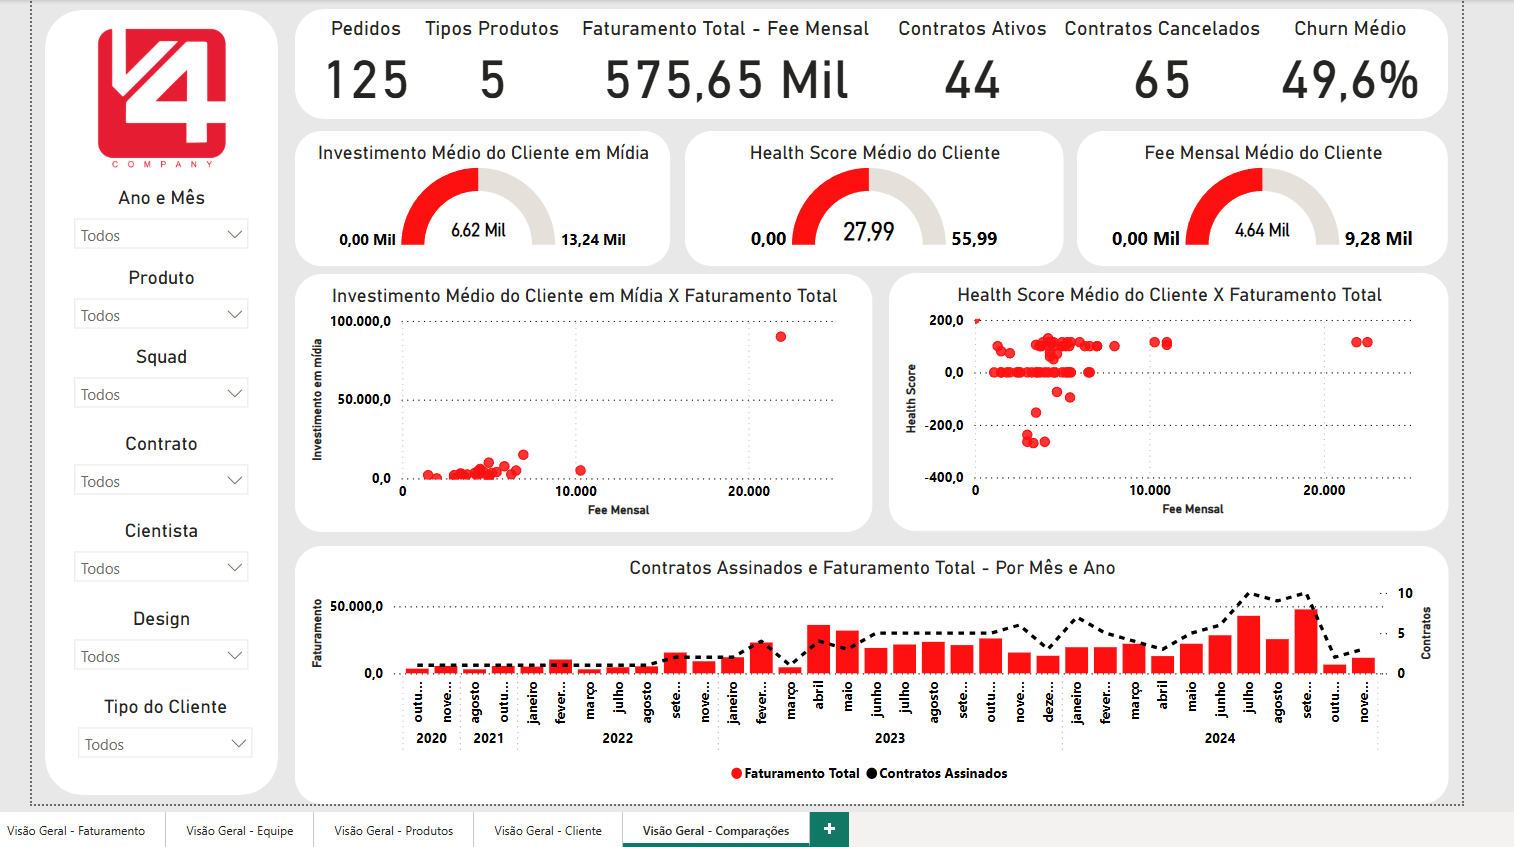

Layout of this report page (visuals, bound fields, positions):
{"tool":"powerbi","page":{"name":"Visão Geral - Comparações","canvas":[1280,720],"ordinal":4},"visuals":[{"type":"shape","box":[11.6,9,208.7,703],"z":0},{"type":"shape","box":[235.5,8.1,1032.5,98.5],"z":1000},{"type":"card","title":"Faturamento Total - Fee Mensal","fields":{"Values":["Sum(Sheet1.Fee Mensal)"]},"box":[474.6,14.3,292.8,85.1],"z":2000},{"type":"card","title":"Contratos Ativos","fields":{"Values":["CountNonNull(Sheet1.situacao)"]},"box":[767.5,14.3,149.6,85.1],"z":3000},{"type":"image","box":[36.7,14.3,159.4,146.9],"z":4000},{"type":"slicer","title":"Ano e Mês","fields":{"Values":["Sheet1.Data da Assinatura .Variation.Hierarquia de datas.Ano","Sheet1.Data da Assinatura .Variation.Hierarquia de datas.Mês"]},"box":[27.8,166.6,176.4,71.6],"z":5000},{"type":"slicer","title":"Squad","fields":{"Values":["Sheet1.Squad"]},"box":[27.8,309,176.4,77.9],"z":6000},{"type":"slicer","title":"Produto","fields":{"Values":["Sheet1.Produto"]},"box":[27.8,238.2,176.4,70.7],"z":7000},{"type":"scatterChart","title":"Investimento Médio do Cliente em Mídia X Faturamento Total","fields":{"Y":["Sheet1.Investimento em mídia"],"X":["Sheet1.Fee Mensal"]},"box":[235.5,245.4,516.7,231],"z":8000},{"type":"slicer","title":"Contrato","fields":{"Values":["Sheet1.situacao"]},"box":[27.8,386.9,176.4,77.9],"z":9000},{"type":"slicer","title":"Cientista","fields":{"Values":["Sheet1.Cientista"]},"box":[27.8,464.8,176.4,78.8],"z":10000},{"type":"slicer","title":"Design","fields":{"Values":["Sheet1.Designer"]},"box":[27.8,543.6,176.4,78.8],"z":11000},{"type":"card","title":"Contratos Cancelados","fields":{"Values":["CountNonNull(Sheet1.situacao)"]},"box":[917,14.3,190.7,85.1],"z":12000},{"type":"card","title":"Pedidos","fields":{"Values":["CountNonNull(Sheet1.Clientes)"]},"box":[248.1,14.3,102.1,85.1],"z":13000},{"type":"card","title":"Churn Médio","fields":{"Values":["Sheet1.Medida"]},"box":[1107.8,14.3,146,85.1],"z":14000},{"type":"slicer","title":"Tipo do Cliente","fields":{"Values":["Sheet1.Faturamento"]},"box":[31.3,622.4,176.4,78.8],"z":15000},{"type":"card","title":"Tipos Produtos","fields":{"Values":["Count(Sheet1.Produto)"]},"box":[343,14.3,137.9,85.1],"z":16000},{"type":"scatterChart","title":"Health Score Médio do Cliente X Faturamento Total","fields":{"X":["Sheet1.Fee Mensal"],"Y":["Sheet1.Health Score"]},"box":[767.5,244.5,500.6,231],"z":17000},{"type":"gauge","title":"Investimento Médio do Cliente em Mídia","fields":{"Y":["Avg(Sheet1.Investimento em mídia)"]},"box":[235.5,117.3,335.8,120.9],"z":18000},{"type":"gauge","title":"Health Score Médio do Cliente","fields":{"Y":["Avg(Sheet1.Health Score)"]},"box":[584.8,117.3,338.5,120.9],"z":19000},{"type":"gauge","title":"Fee Mensal Médio do Cliente","fields":{"Y":["Avg(Sheet1.Fee Mensal)"]},"box":[935.8,117.3,332.2,120.9],"z":20000},{"type":"lineStackedColumnComboChart","title":"Contratos Assinados e Faturamento Total - Por Mês e Ano","fields":{"Y":["Sum(Sheet1.Fee Mensal)"],"Y2":["CountNonNull(Sheet1.Data da Assinatura )"],"Category":["Sheet1.Data da Assinatura .Variation.Hierarquia de datas.Ano","Sheet1.Data da Assinatura .Variation.Hierarquia de datas.Mês"]},"box":[235.5,489,1032.5,231],"z":21000}]}

Visuals, with their boxes on the page's 1280x720 design canvas (x1, y1, x2, y2). These are canvas units, not pixel positions in the 1514x847 screenshot, which may show the page scaled, cropped or inside an application window:
shape: l=12, t=9, r=220, b=712
shape: l=236, t=8, r=1268, b=107
"Faturamento Total - Fee Mensal" card: l=475, t=14, r=767, b=99
"Contratos Ativos" card: l=768, t=14, r=917, b=99
image: l=37, t=14, r=196, b=161
"Ano e Mês" slicer: l=28, t=167, r=204, b=238
"Squad" slicer: l=28, t=309, r=204, b=387
"Produto" slicer: l=28, t=238, r=204, b=309
"Investimento Médio do Cliente em Mídia X Faturamento Total" scatterChart: l=236, t=245, r=752, b=476
"Contrato" slicer: l=28, t=387, r=204, b=465
"Cientista" slicer: l=28, t=465, r=204, b=544
"Design" slicer: l=28, t=544, r=204, b=622
"Contratos Cancelados" card: l=917, t=14, r=1108, b=99
"Pedidos" card: l=248, t=14, r=350, b=99
"Churn Médio" card: l=1108, t=14, r=1254, b=99
"Tipo do Cliente" slicer: l=31, t=622, r=208, b=701
"Tipos Produtos" card: l=343, t=14, r=481, b=99
"Health Score Médio do Cliente X Faturamento Total" scatterChart: l=768, t=244, r=1268, b=476
"Investimento Médio do Cliente em Mídia" gauge: l=236, t=117, r=571, b=238
"Health Score Médio do Cliente" gauge: l=585, t=117, r=923, b=238
"Fee Mensal Médio do Cliente" gauge: l=936, t=117, r=1268, b=238
"Contratos Assinados e Faturamento Total - Por Mês e Ano" lineStackedColumnComboChart: l=236, t=489, r=1268, b=720
